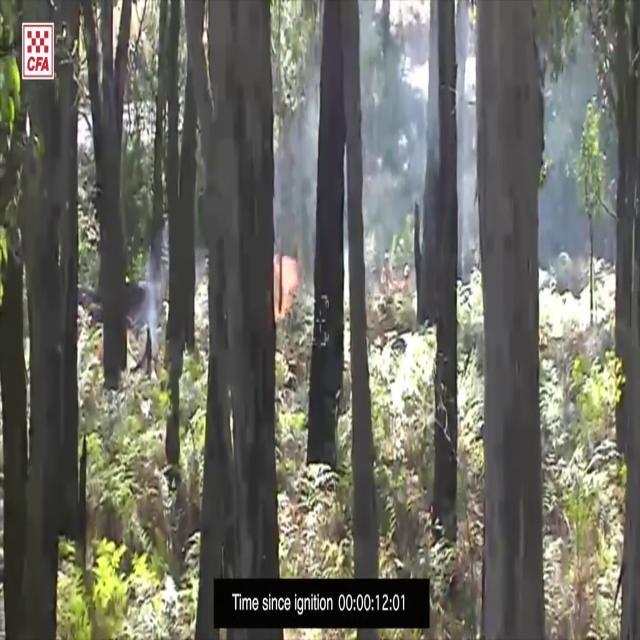Smoke: (274, 70, 324, 289)
